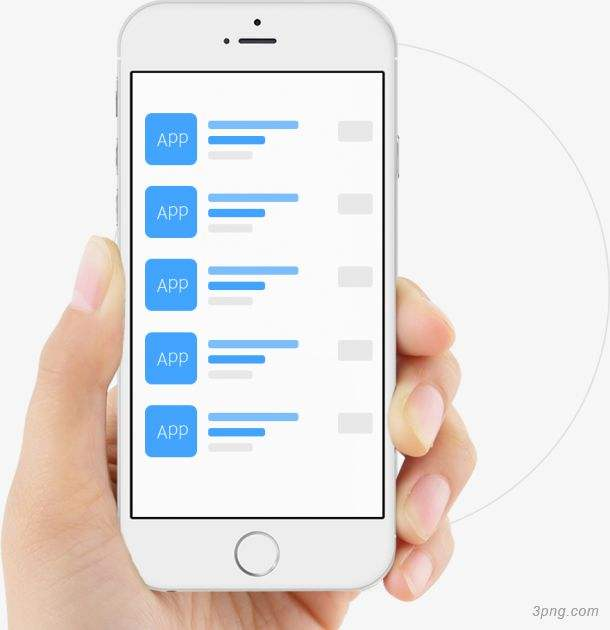phone: (14, 1, 480, 628)
